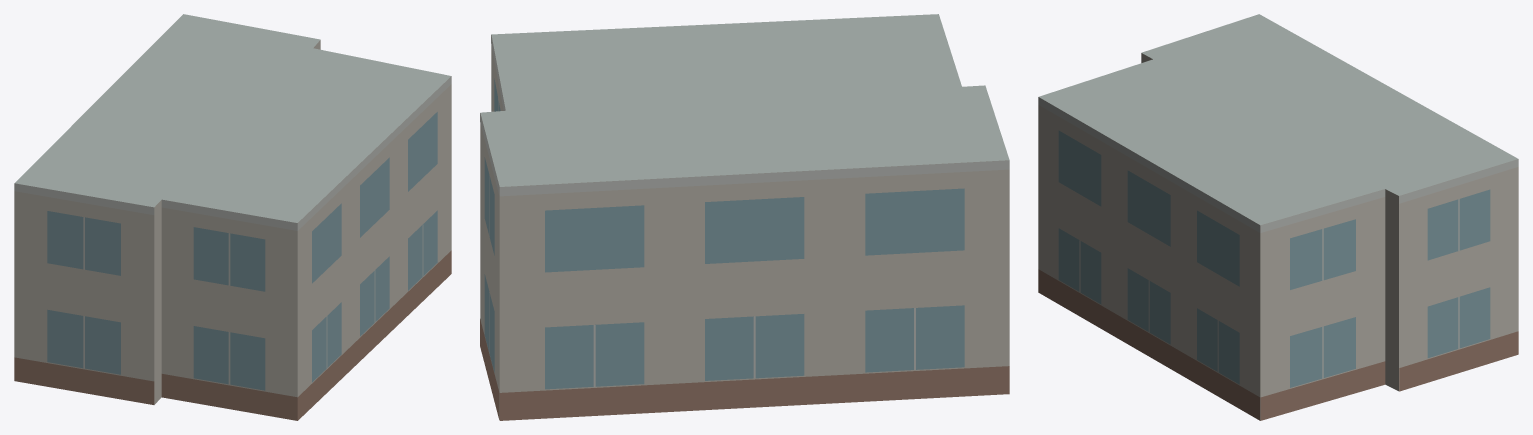
The model's file is survey-upis-32657176.glb.
The picture shows the model from 3 angles, left to right: view 1: azimuth 30°, elevation 25°; view 2: azimuth 150°, elevation 25°; view 3: azimuth 270°, elevation 25°; orthographic projection. The views are drawn at different scales.
Visible parts, largest first — view 1: survey-upis-32657176.tmp; view 2: survey-upis-32657176.tmp; view 3: survey-upis-32657176.tmp.
Boxes of the visible parts, box(x1,y1,x2,y2) form: survey-upis-32657176.tmp: box(14, 14, 451, 420); survey-upis-32657176.tmp: box(480, 14, 1009, 420); survey-upis-32657176.tmp: box(1038, 14, 1518, 420).
Bounding box in the file's own units: 14.14 × 6.1 × 13.58.
